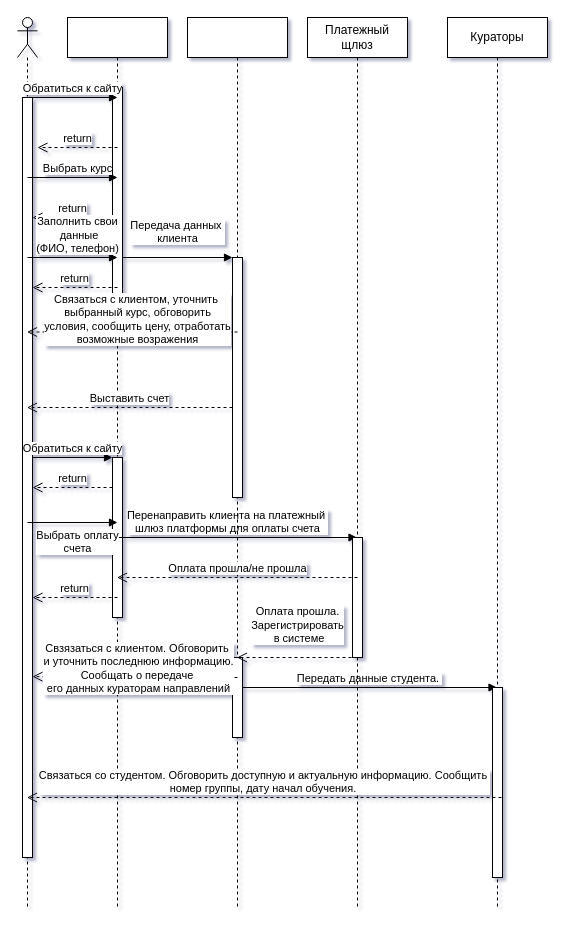
Some shapes in this 571 by 931 pixel diagram are drawn without their labels. The box of each missing label's shape, as (x1, y1, x2, y2) in pixels:
:Сайт ГигБрейнс: (66, 16, 168, 908)
Отдел по работе с покупателями: (186, 16, 288, 908)
